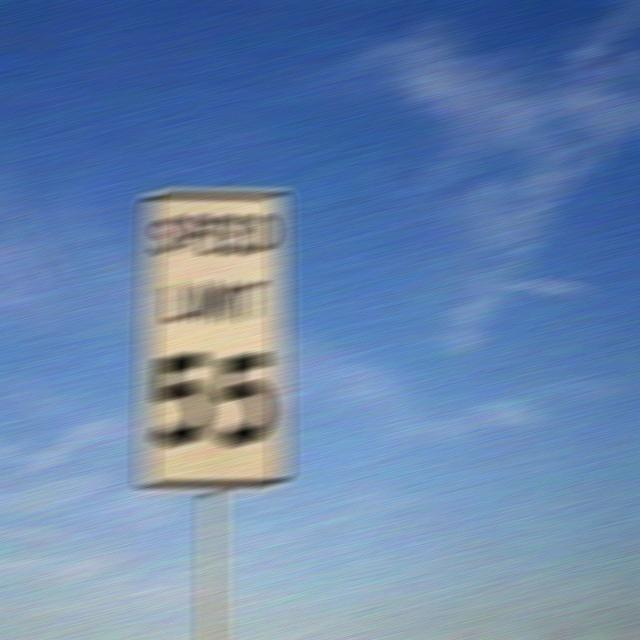speedLimit55: (144, 187, 292, 489)
